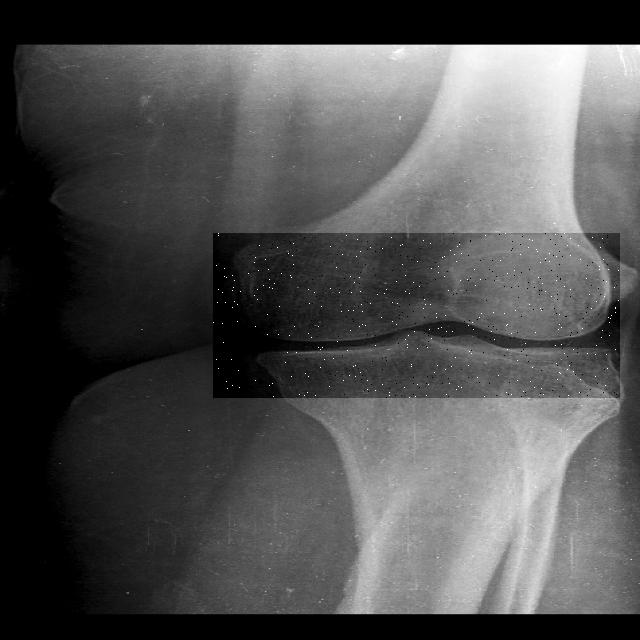osteo: (213, 233, 620, 398)
